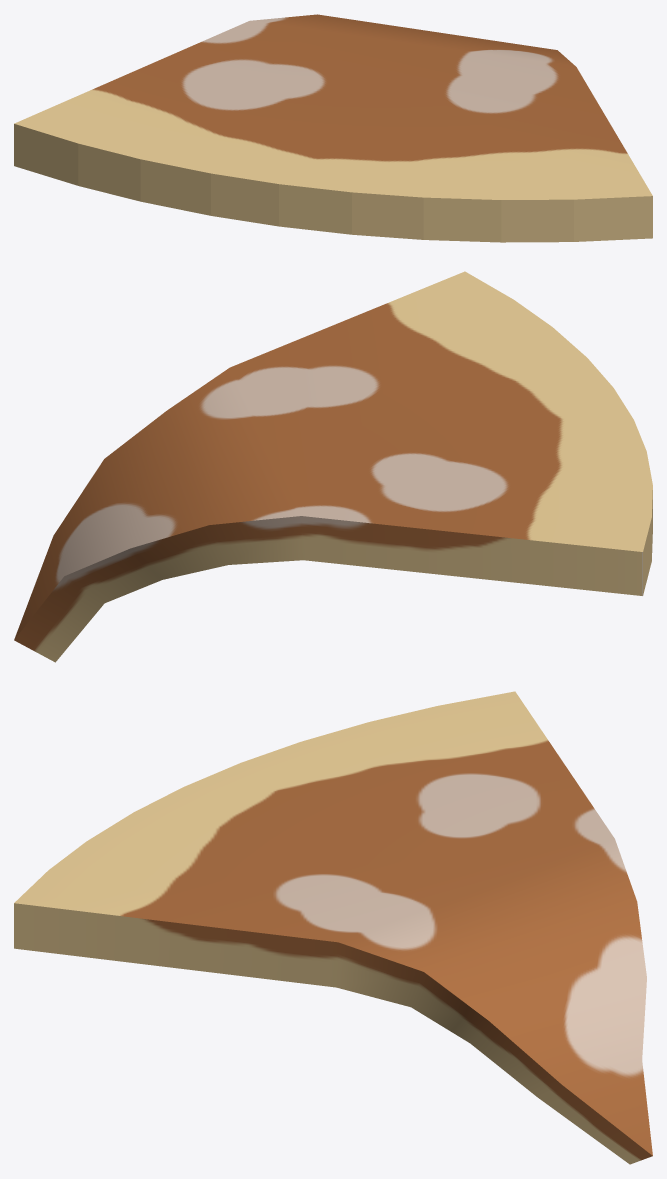
The model's file is Pizzastück2.fbx.
3 views of the same model, one above another, from view 1: azimuth 30°, elevation 25°; view 2: azimuth 150°, elevation 25°; view 3: azimuth 270°, elevation 25° (orthographic). The views are drawn at different scales.
Parts seen in each view (by area): view 1: Würfel; view 2: Würfel; view 3: Würfel.
Boxes of the visible parts, x1=… form: Würfel: x1=14, y1=14, x2=652, y2=242; Würfel: x1=14, y1=271, x2=652, y2=662; Würfel: x1=14, y1=691, x2=652, y2=1164.
Size of the model in its own units: 673 by 226 by 637.
1 material, 1 textured.
